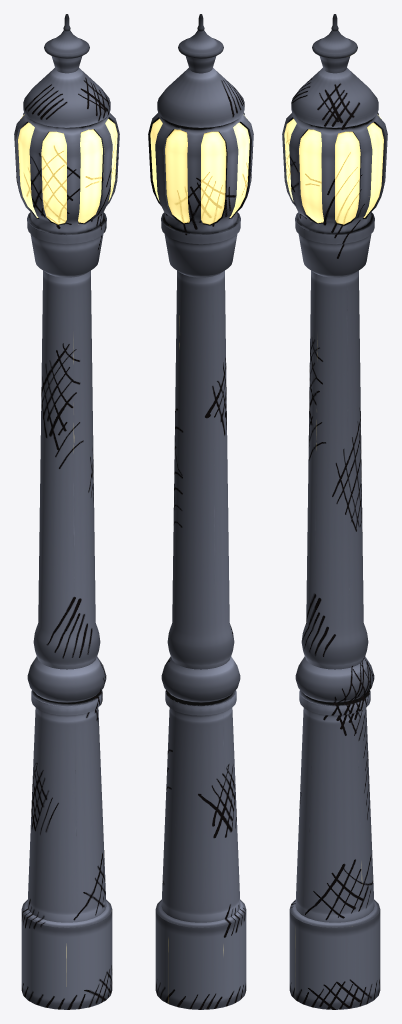
Rendered from StreetLamp.fbx.
3 renders of one model, left to right at view 1: azimuth 30°, elevation 25°; view 2: azimuth 150°, elevation 25°; view 3: azimuth 330°, elevation 25°, orthographic.
Visible parts, largest first — view 1: StreetLamp; view 2: StreetLamp; view 3: StreetLamp.
Part boxes in pixels (x1,y1,x2,y2): StreetLamp: [14, 14, 119, 1009]; StreetLamp: [148, 14, 253, 1009]; StreetLamp: [282, 14, 387, 1009].
Size of the model in its own units: 27.75 by 293 by 27.75.
